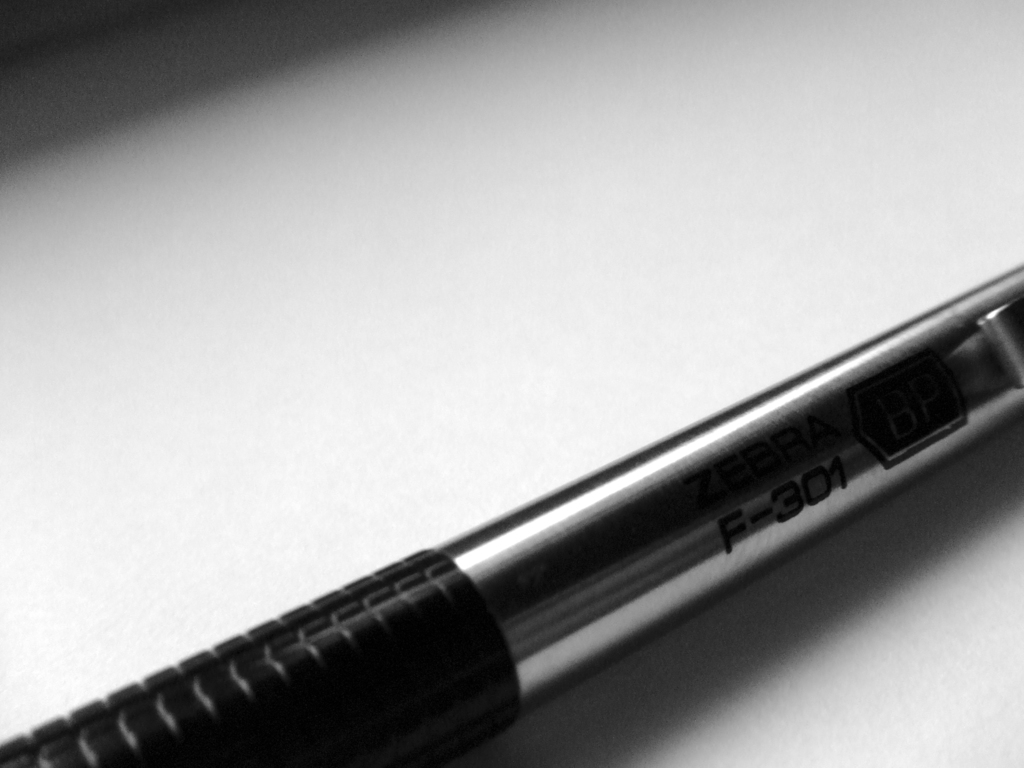Pen: (0, 260, 1023, 767)
